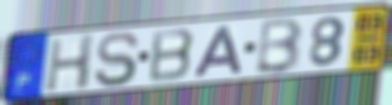8: (308, 15, 346, 68)
A: (189, 24, 246, 79)
B: (253, 15, 306, 75), (147, 26, 198, 84)
H: (43, 32, 98, 94)
S: (91, 30, 142, 89)
